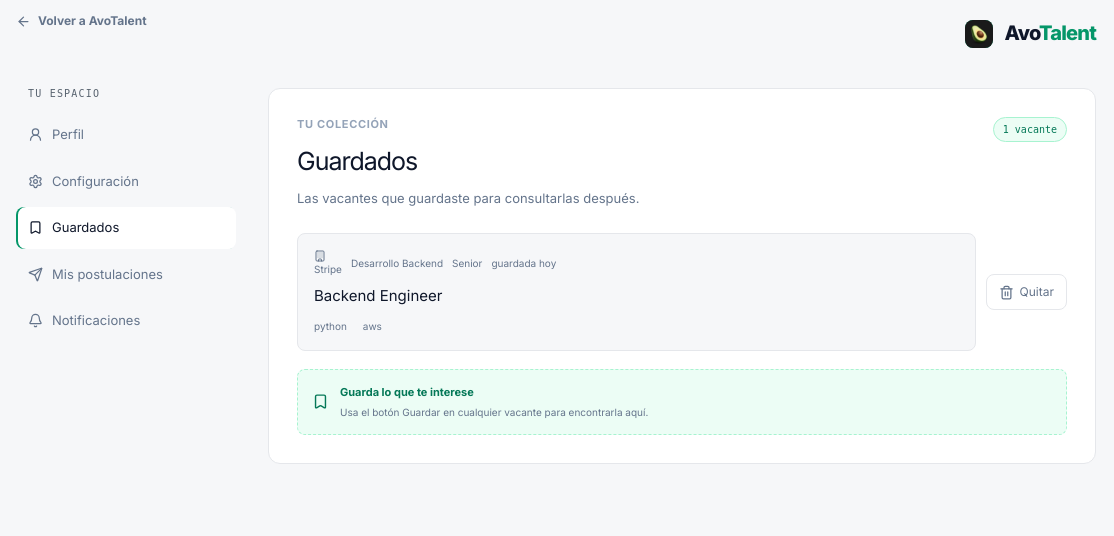
/saved › removes a vacancy from the list and from the server
Check: the heading "Backend Engineer" is shown, box [314, 286, 442, 305]
Click the button with aria-label "quitar backend engineer": (1026,292) [986, 274, 1067, 310]
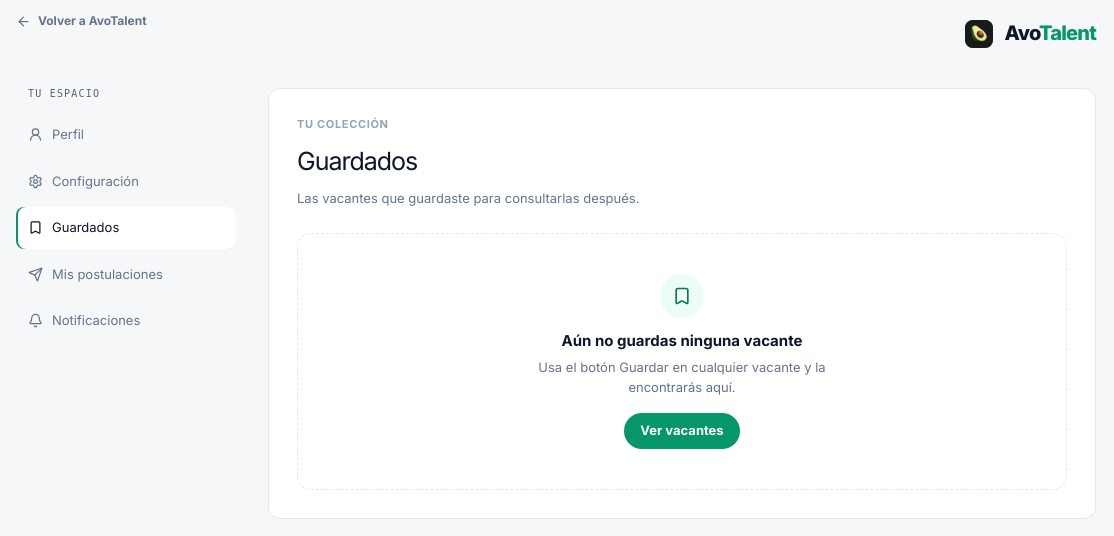
Check: the link "Backend Engineer" is gone
Check: the text "Aún no guardas ninguna vacante" is shown, box [562, 330, 802, 352]
